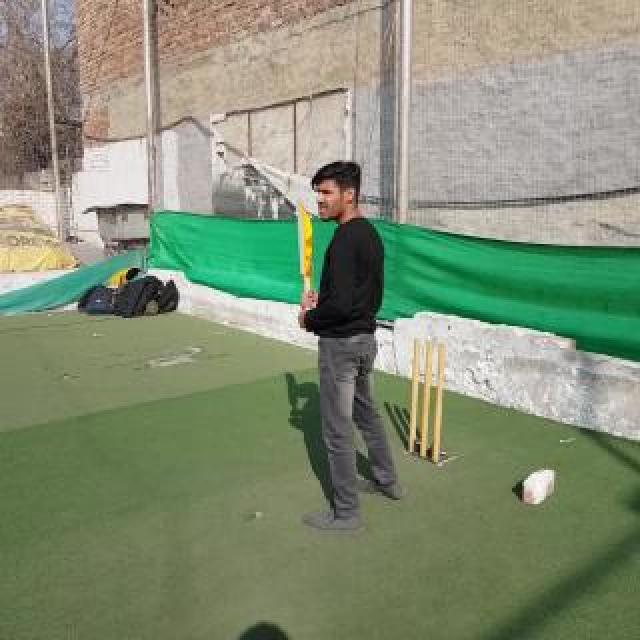bat: (295, 197, 313, 333)
